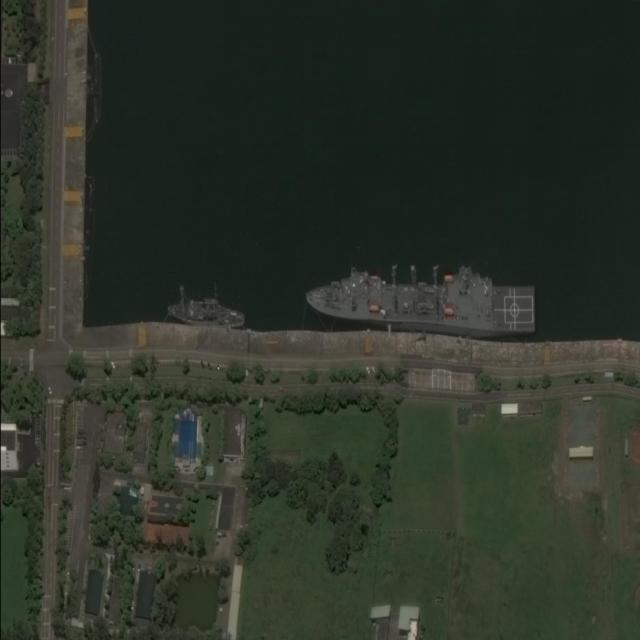Commander: (305, 264, 544, 332)
Other Warship: (166, 292, 247, 326)
